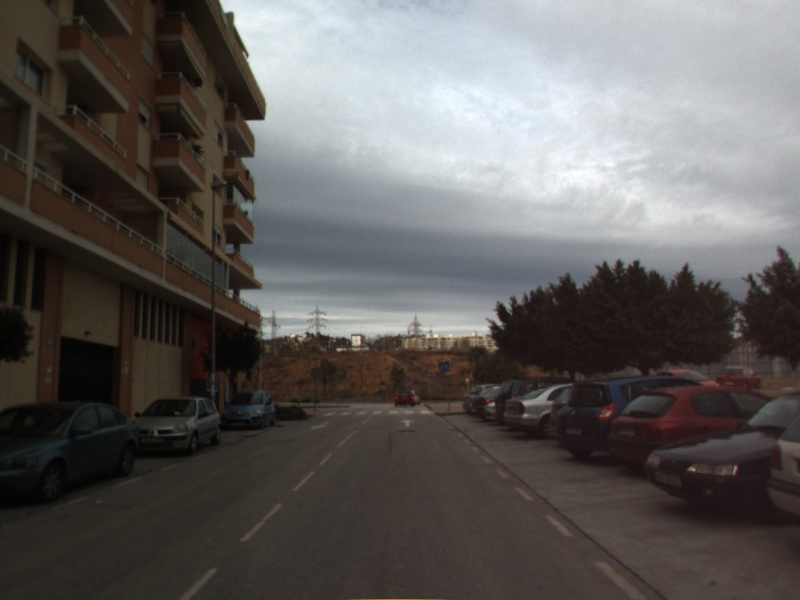STRAIGHT: (398, 416, 418, 429)
